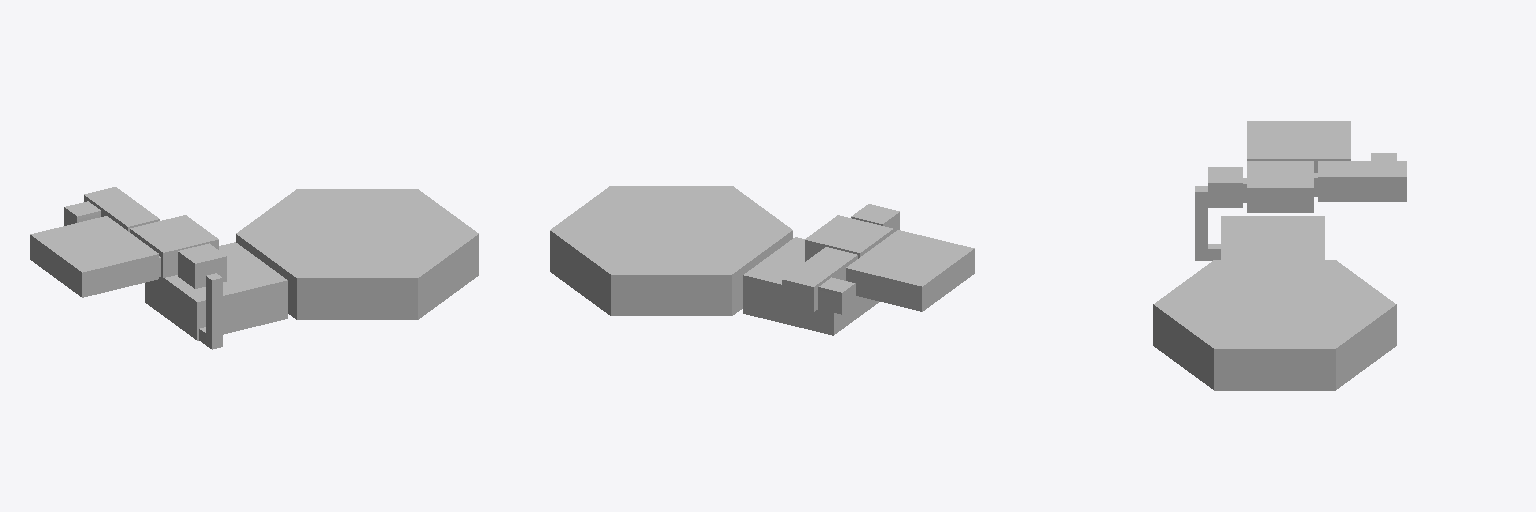
File: Building.obj
The picture shows the model from 3 angles: view 1: azimuth 30°, elevation 25°; view 2: azimuth 150°, elevation 25°; view 3: azimuth 270°, elevation 25°; orthographic projection.
Visible parts, largest first — view 1: pCube15; view 2: pCube15; view 3: pCube15.
Part boxes in pixels (x1,y1,x2,y2): pCube15: (30, 187, 478, 349); pCube15: (550, 186, 974, 335); pCube15: (1153, 121, 1406, 390).
Bounding box in the file's own units: 5606 × 1178 × 3232.